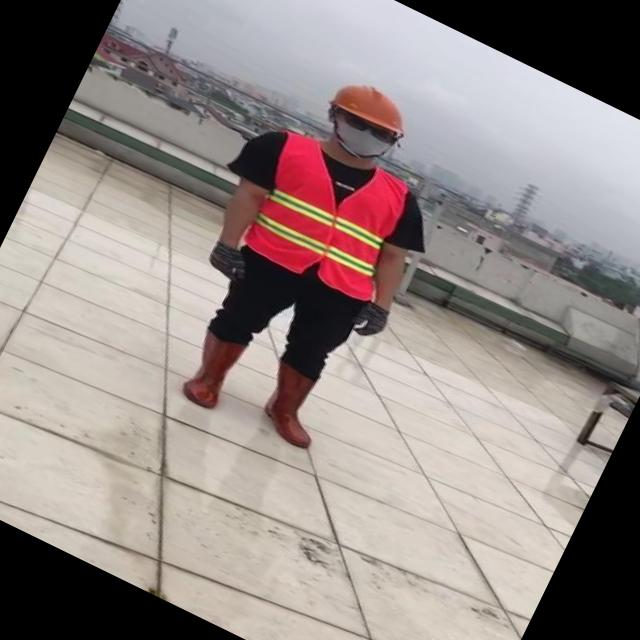hard_hat: (325, 70, 417, 140)
safety_vest: (230, 124, 420, 306)
vehicle: (130, 43, 488, 468)
work_boots: (247, 356, 346, 454), (172, 322, 250, 412)
